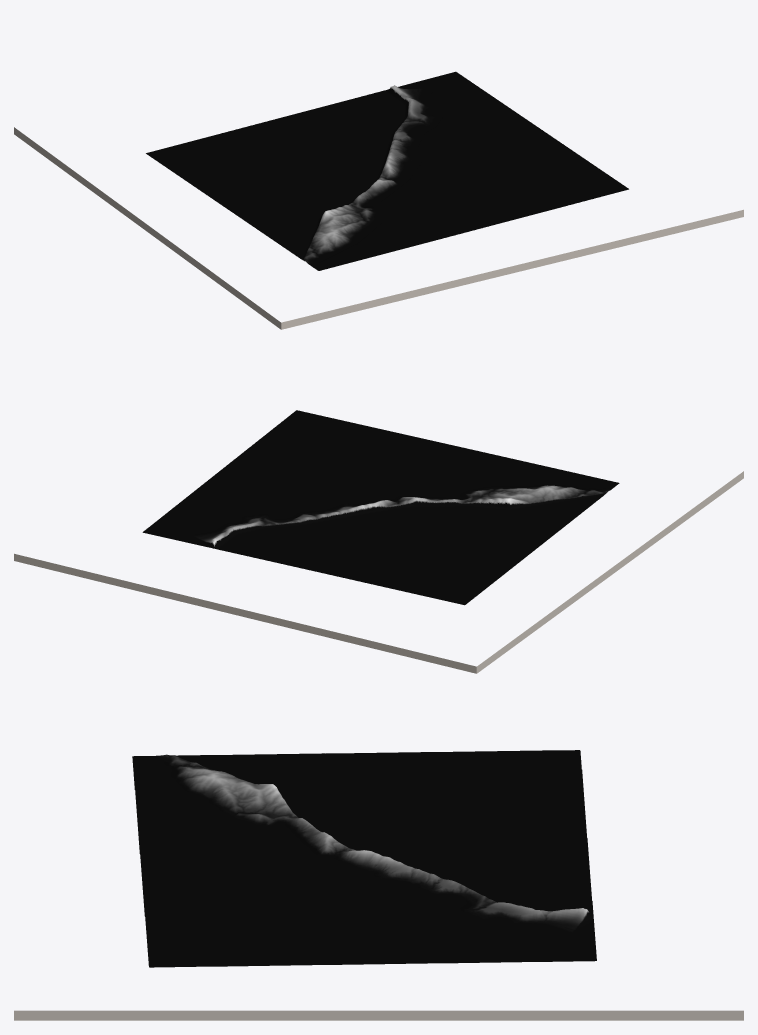
The model's file is export_kaikoura_dem.gltf.
3 views of the same model, one above another, from view 1: azimuth 30°, elevation 25°; view 2: azimuth 150°, elevation 25°; view 3: azimuth 270°, elevation 25° (orthographic). The views are drawn at different scales.
Parts seen in each view (by area): view 1: Clipped (mask), side (×2); view 2: Clipped (mask), side (×2); view 3: Clipped (mask), side.
Boxes of the visible parts, box(x1,y1,x2,y2) form: Clipped (mask): box(146, 71, 628, 270); side (×2): box(14, 127, 743, 329); Clipped (mask): box(142, 410, 619, 605); side (×2): box(14, 471, 743, 673); Clipped (mask): box(132, 750, 596, 967); side: box(14, 1010, 743, 1020).
Size of the model in its own units: 100 by 3.14 by 100.
Materials: 2 (1 with a texture image).
